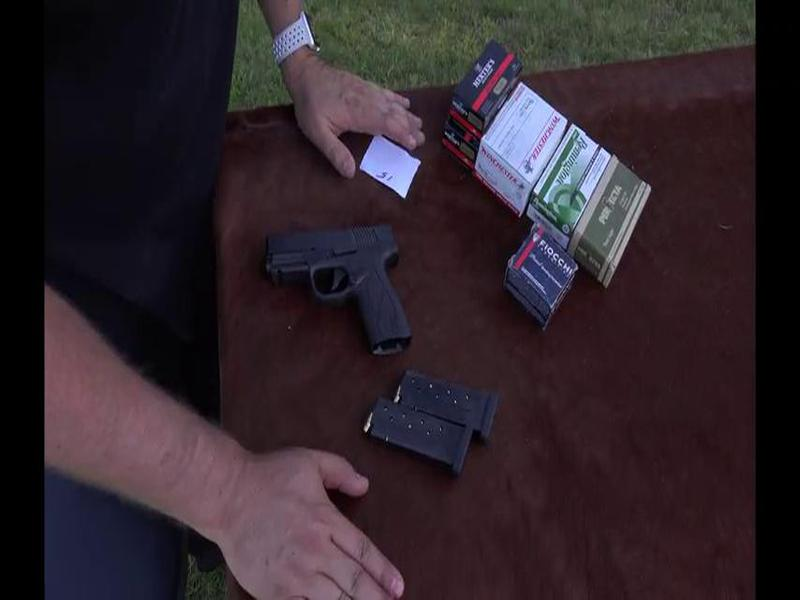Pistola: (265, 220, 458, 349)
